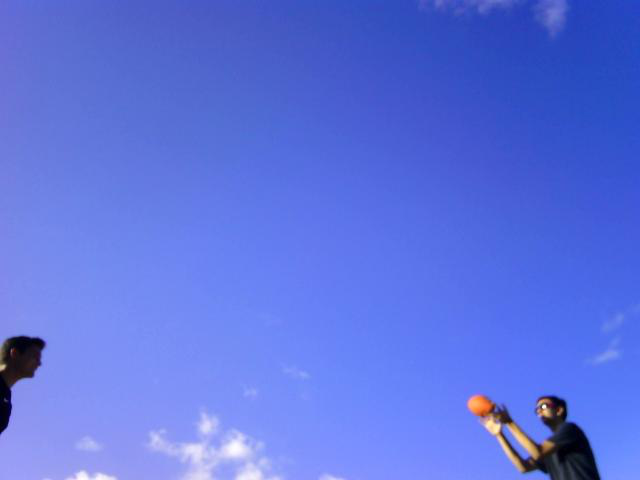football: (464, 394, 498, 419)
